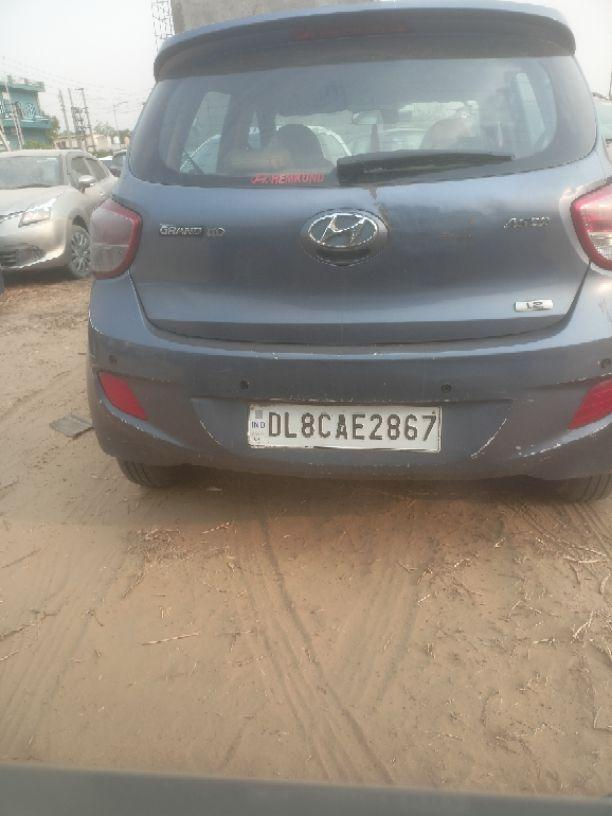license_plate: (244, 401, 443, 453)
